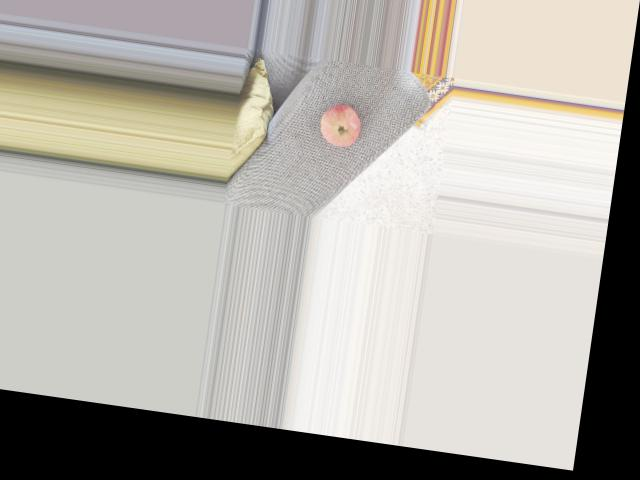apple: (312, 96, 366, 146)
